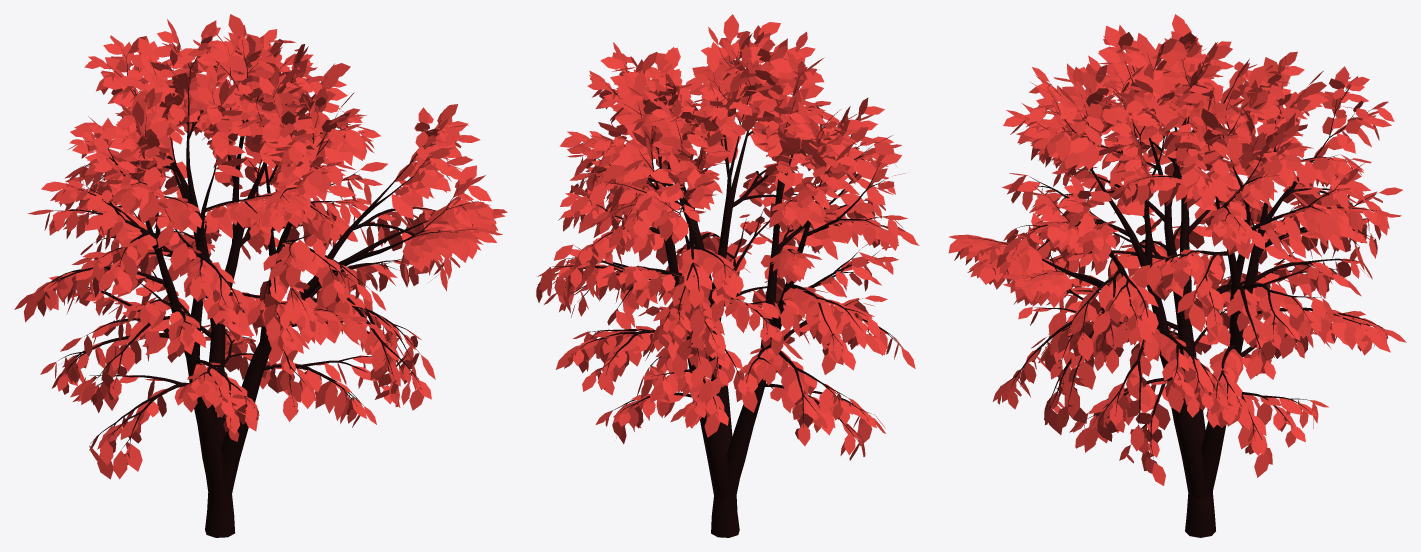
The model's file is Planet 2 Birch.fbx.
The picture shows the model from 3 angles, left to right: view 1: azimuth 30°, elevation 25°; view 2: azimuth 150°, elevation 25°; view 3: azimuth 270°, elevation 25°; orthographic projection. The views are drawn at different scales.
Parts seen in each view (by area): view 1: Birch; view 2: Birch; view 3: Birch.
Boxes of the visible parts, box(x1,y1,x2,y2) form: Birch: box(14, 14, 507, 537); Birch: box(536, 14, 919, 537); Birch: box(948, 14, 1406, 537).
Bounding box in the file's own units: 351 × 429 × 364.
